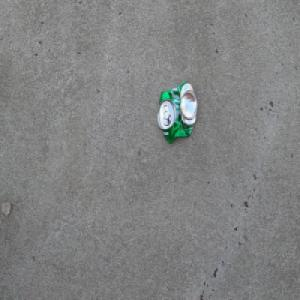SodaCan: (156, 80, 197, 144)
